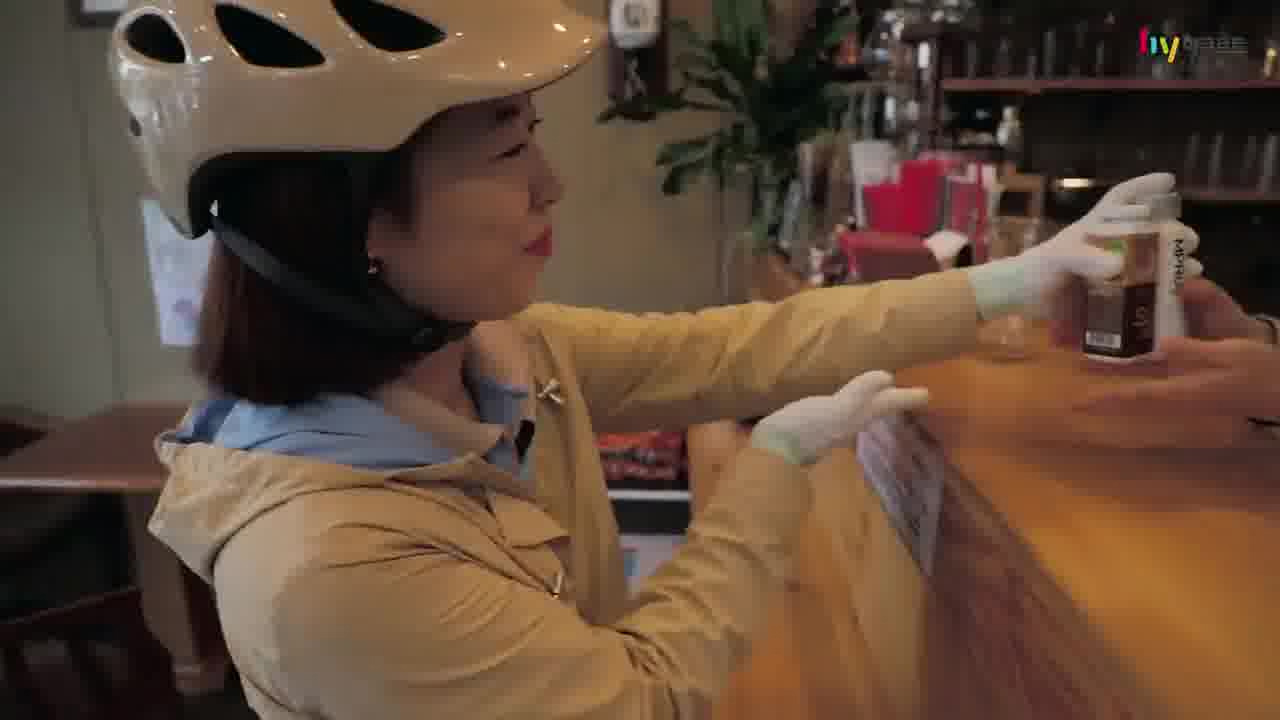Yakurut: (81, 5, 1211, 720)
